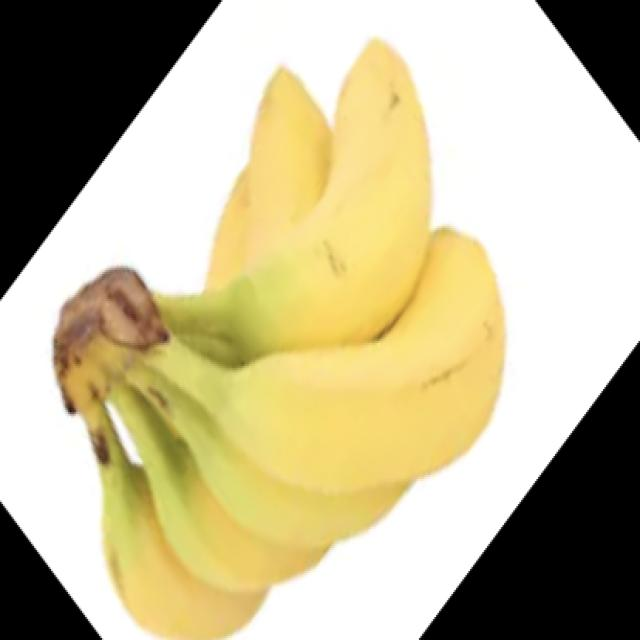god quality banana: (54, 40, 506, 637)
